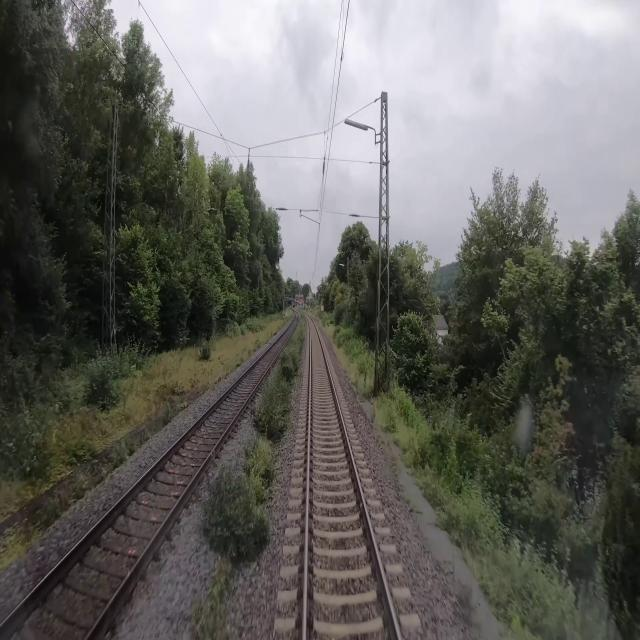Plant: (194, 428, 287, 569), (250, 315, 307, 446), (186, 550, 252, 639)
